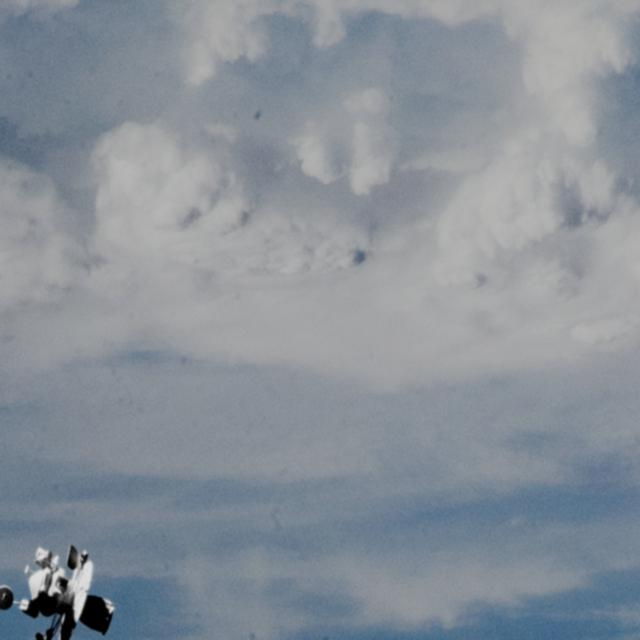satellite: (0, 527, 121, 640)
